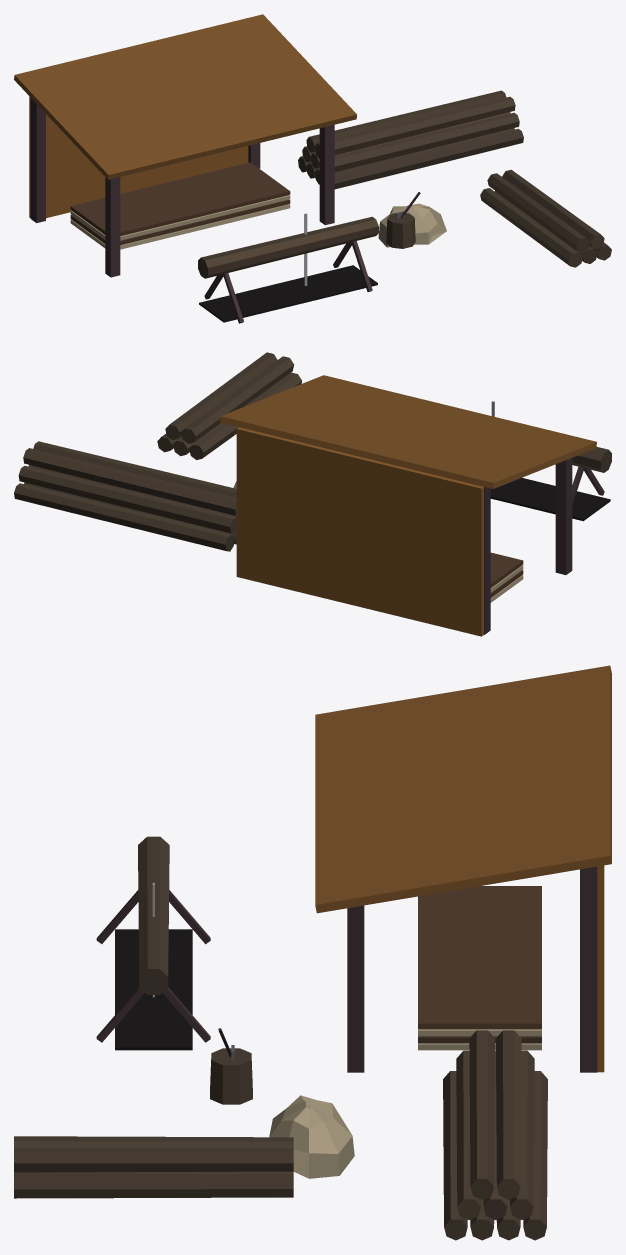
The model's file is walk_hive_lumber.glb.
The picture shows the model from 3 angles, top to bottom: view 1: azimuth 30°, elevation 25°; view 2: azimuth 150°, elevation 25°; view 3: azimuth 270°, elevation 25°; orthographic projection. The views are drawn at different scales.
Visible parts, largest first — view 1: walk_hive_lumber, walk_hive_lumber_roof; view 2: walk_hive_lumber, walk_hive_lumber_roof; view 3: walk_hive_lumber, walk_hive_lumber_roof.
Part boxes in pixels (x1=…): walk_hive_lumber: x1=29, y1=90, x2=611, y2=323; walk_hive_lumber_roof: x1=14, y1=14, x2=356, y2=179; walk_hive_lumber: x1=14, y1=352, x2=611, y2=636; walk_hive_lumber_roof: x1=219, y1=375, x2=596, y2=488; walk_hive_lumber: x1=14, y1=836, x2=604, y2=1240; walk_hive_lumber_roof: x1=315, y1=665, x2=611, y2=913.
Size of what is drawn, in the model's own units: 10.65 by 3.69 by 7.7.
Materials: 2 (2 with a texture image).
